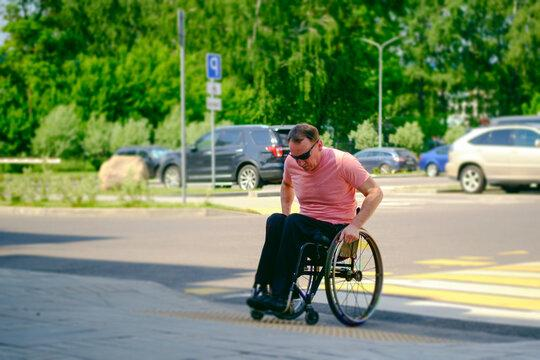crutches: (245, 122, 384, 327)
